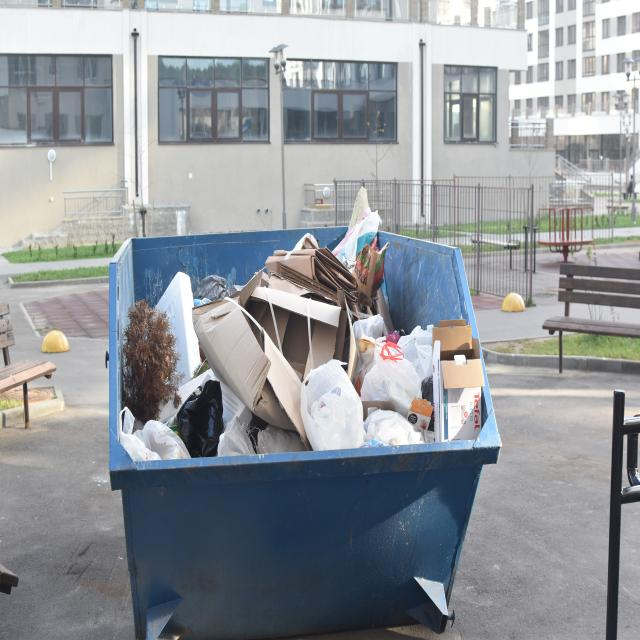lixo domiciliar: (194, 296, 283, 426), (245, 277, 354, 381), (142, 266, 202, 399), (268, 242, 365, 310), (162, 366, 236, 441), (301, 357, 358, 453), (360, 336, 424, 417), (437, 324, 482, 390), (332, 207, 382, 266), (253, 416, 313, 462), (117, 405, 162, 464), (361, 408, 425, 447), (139, 420, 193, 462), (395, 324, 433, 383), (220, 413, 259, 459), (272, 248, 321, 282), (265, 273, 323, 299), (196, 270, 233, 304), (236, 267, 268, 306), (352, 313, 386, 348), (120, 406, 135, 437)
